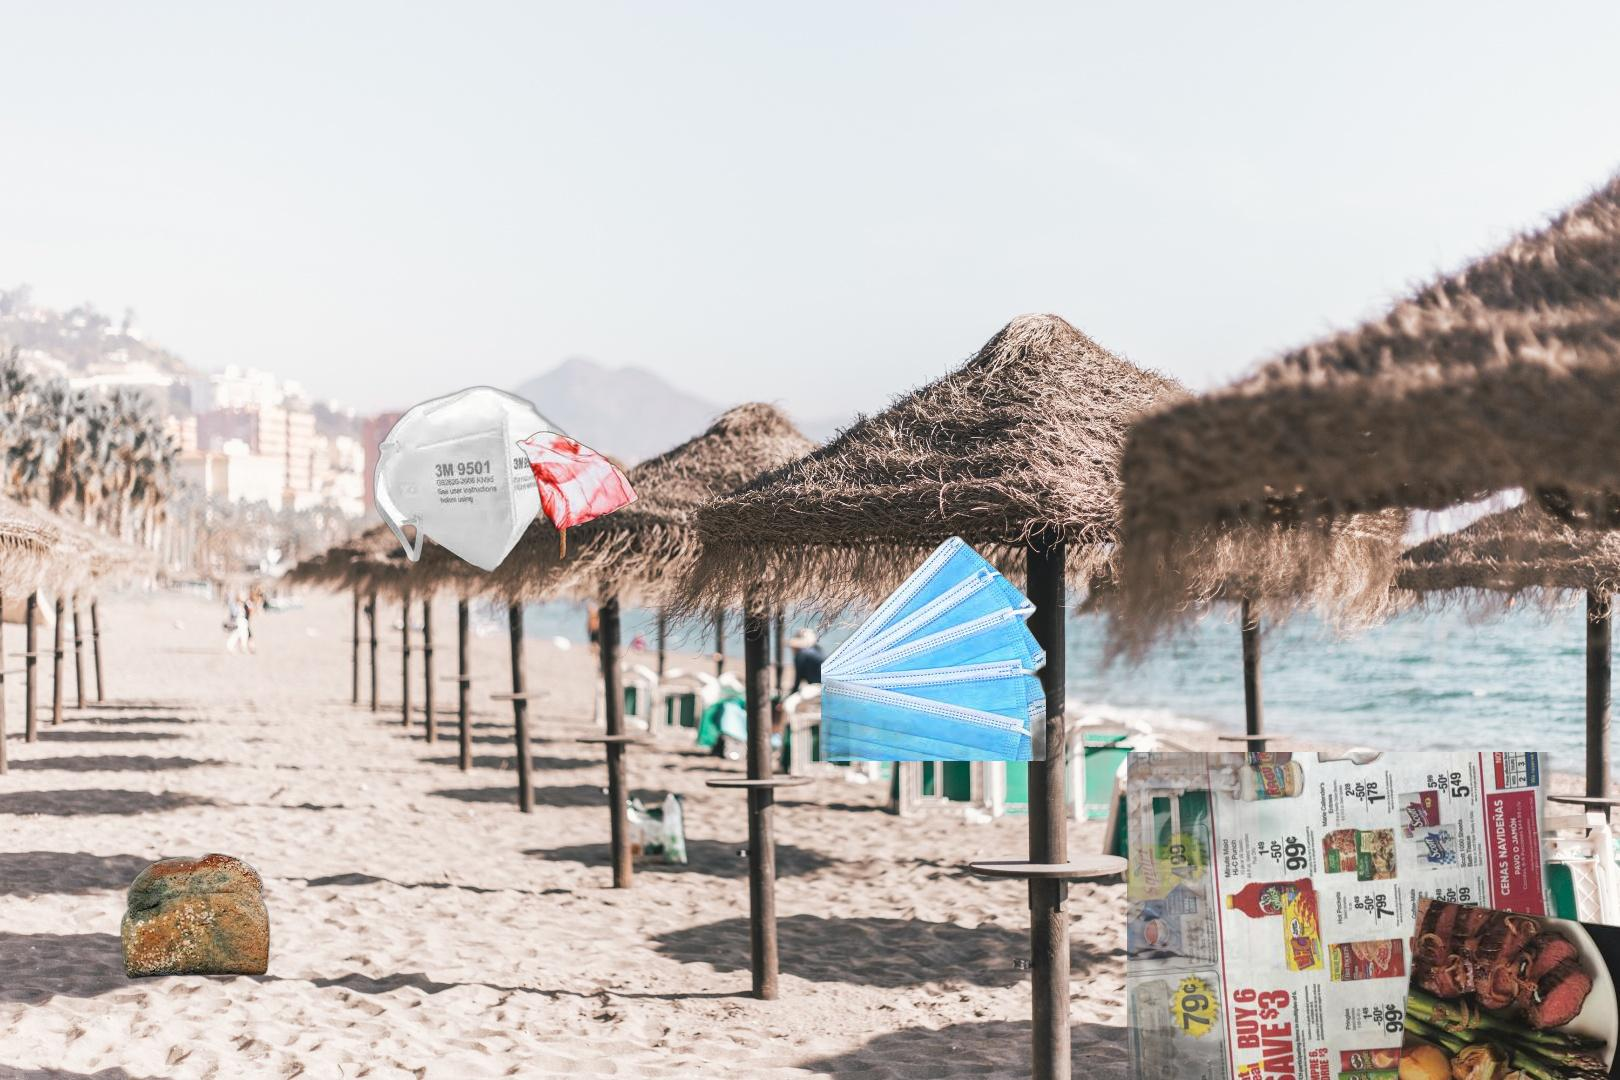biological: (118, 850, 272, 981)
paper: (1127, 752, 1583, 1080), (1390, 896, 1620, 1080)
plastic-bag: (512, 429, 640, 564)
trash: (821, 536, 1046, 761), (371, 375, 598, 579)
